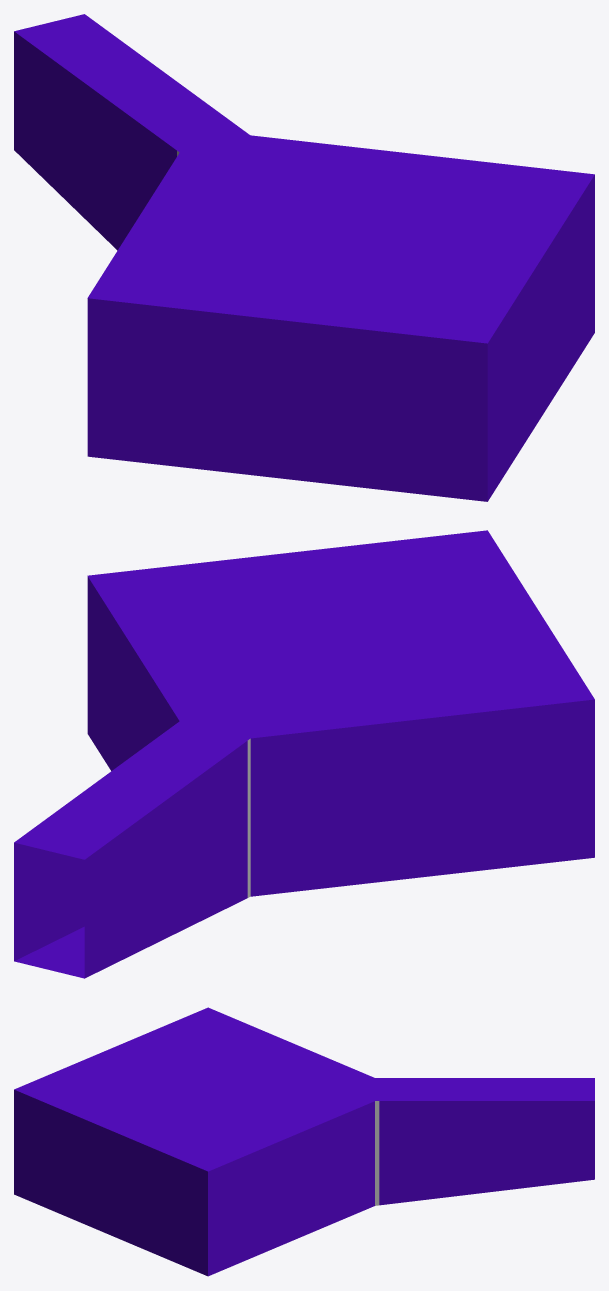
The model's file is expcontrolroom_structure.gltf.
3 views of the same model, one above another, from view 1: azimuth 30°, elevation 25°; view 2: azimuth 150°, elevation 25°; view 3: azimuth 270°, elevation 25° (orthographic). The views are drawn at different scales.
Visible parts, largest first — view 1: Last Backup 4/9 Walls and hallwy.001; view 2: Last Backup 4/9 Walls and hallwy.001; view 3: Last Backup 4/9 Walls and hallwy.001.
Boxes of the visible parts, left/top/right/bottom form: Last Backup 4/9 Walls and hallwy.001: left=14, top=14, right=594, bottom=501; Last Backup 4/9 Walls and hallwy.001: left=14, top=530, right=594, bottom=978; Last Backup 4/9 Walls and hallwy.001: left=14, top=1007, right=594, bottom=1276.
Size of the model in its own units: 28.59 by 8.52 by 42.77.
